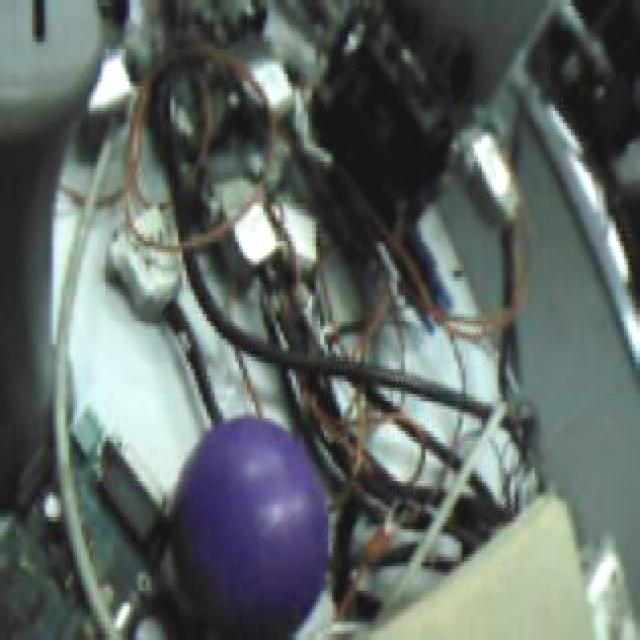BallPurple: (171, 414, 326, 640)
